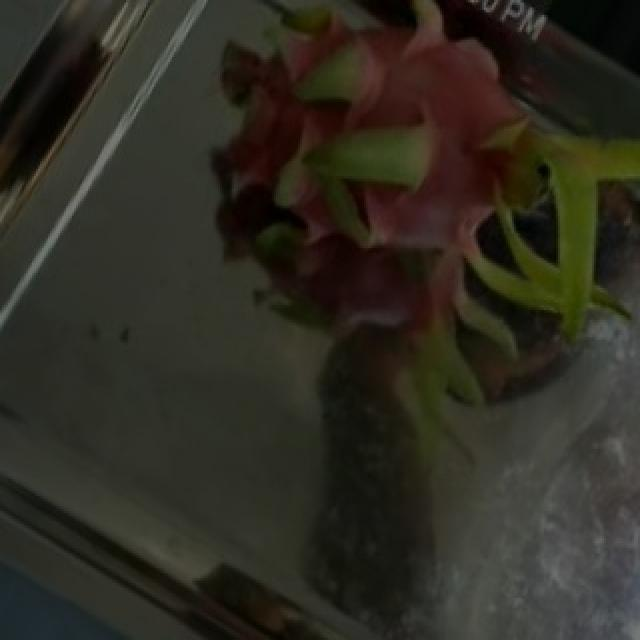fruit: (224, 0, 640, 422)
